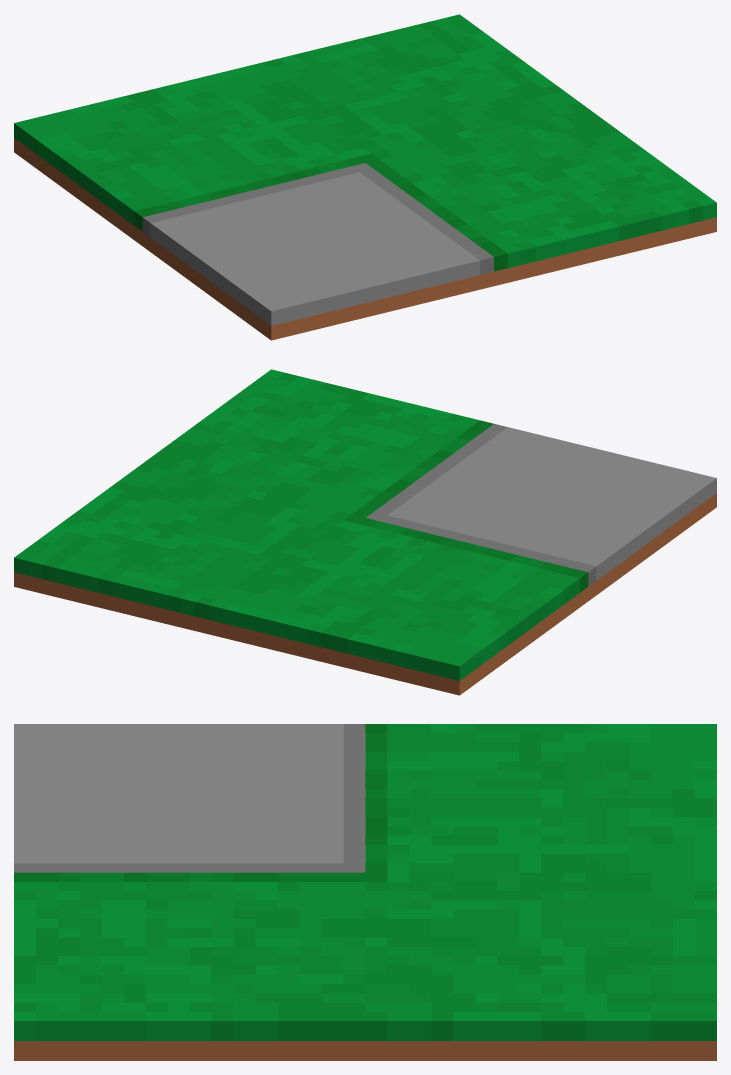
The model's file is forest-city-edgy-edge-inner-4.gltf.
3 views of the same model, one above another, from view 1: azimuth 30°, elevation 25°; view 2: azimuth 150°, elevation 25°; view 3: azimuth 270°, elevation 25° (orthographic). The views are drawn at different scales.
Parts seen in each view (by area): view 1: forest-city-edgy-edge-inner-4; view 2: forest-city-edgy-edge-inner-4; view 3: forest-city-edgy-edge-inner-4.
Boxes of the visible parts, left/top/right/bottom form: forest-city-edgy-edge-inner-4: left=14, top=14, right=716, bottom=340; forest-city-edgy-edge-inner-4: left=14, top=369, right=716, bottom=695; forest-city-edgy-edge-inner-4: left=14, top=724, right=716, bottom=1060.
Bounding box in the file's own units: 3.2 × 0.2 × 3.2.
1 material, 1 textured.
